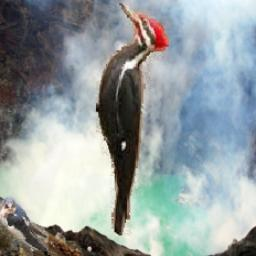Swallow: (0, 195, 49, 250)
Woodpecker: (97, 0, 171, 237)
